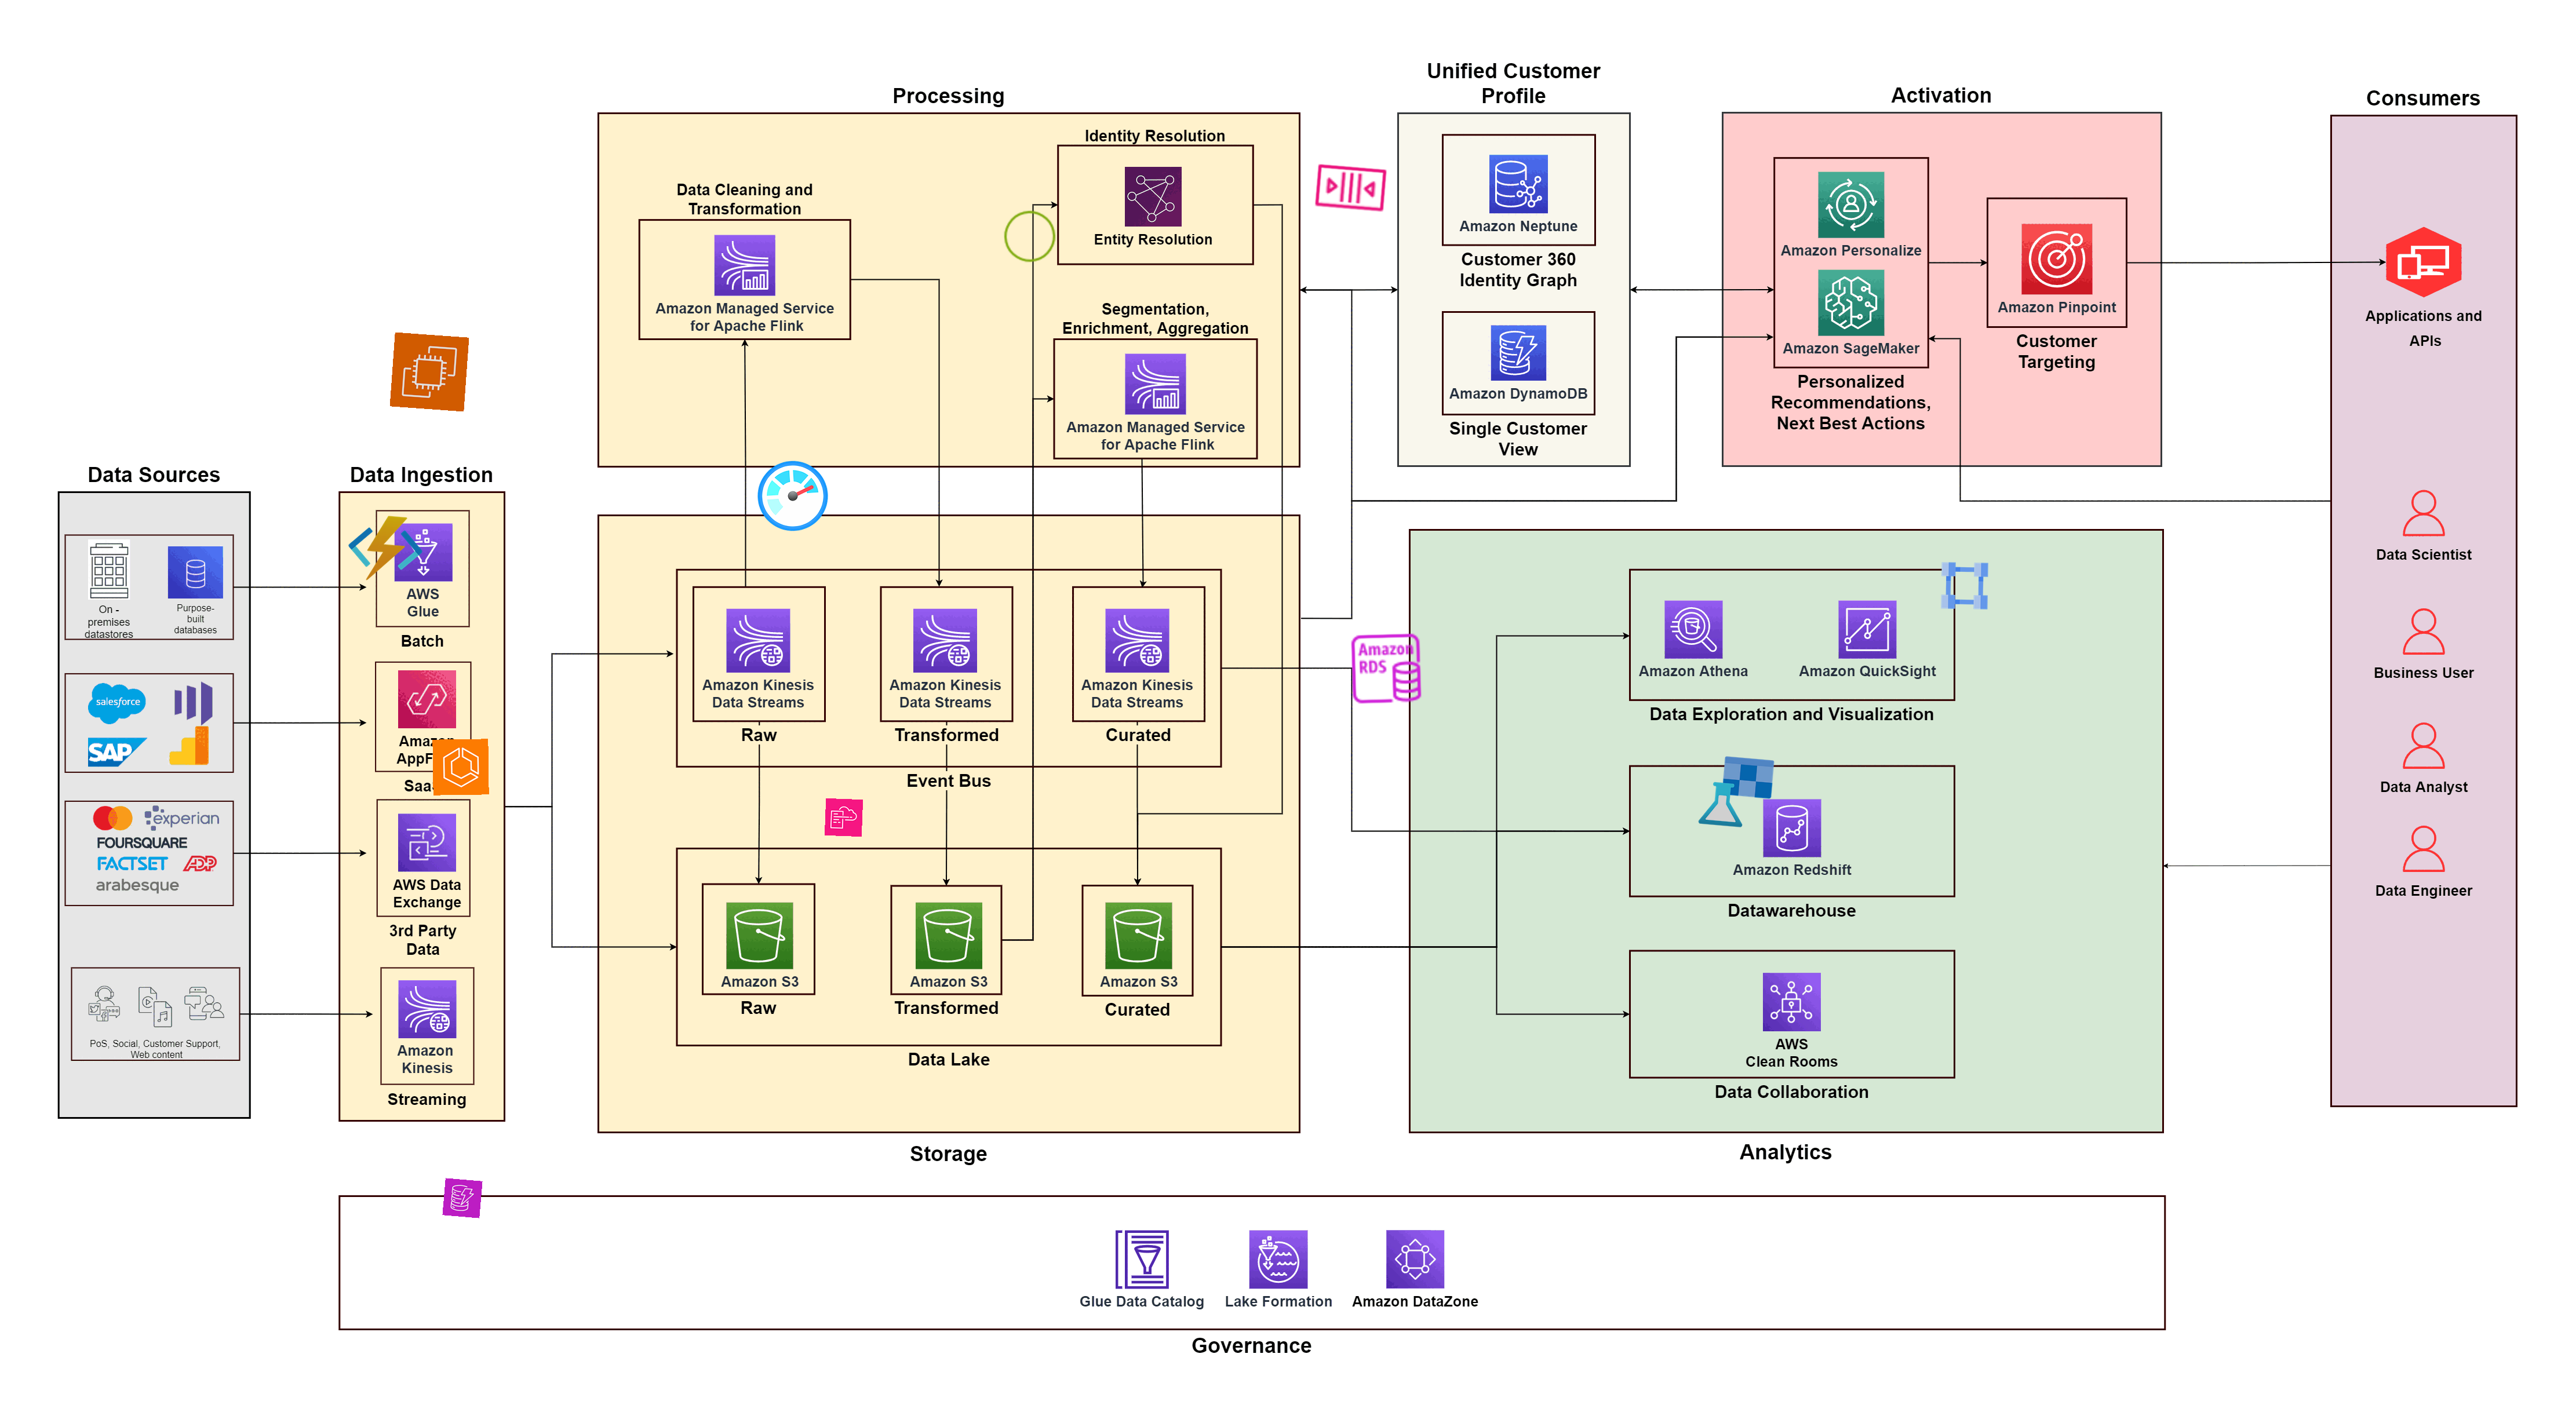aws_amazon_dynamodb: (443, 1177, 483, 1219)
aws_amazon_ec2: (389, 331, 469, 412)
aws_amazon_elastic_container_service: (433, 739, 488, 795)
aws_aurora_amazon_rds_instance: (1348, 630, 1425, 706)
aws_cloudformation: (825, 797, 863, 837)
aws_simple_queue_service_queue: (1310, 146, 1392, 228)
aws_simple_storage_service_object: (1001, 208, 1059, 265)
azure_function_apps: (345, 507, 426, 589)
azure_machine_learning_studio_workspaces: (1695, 752, 1777, 832)
azure_monitor: (753, 455, 832, 535)
gcp_virtual_private_cloud: (1936, 558, 1993, 614)
